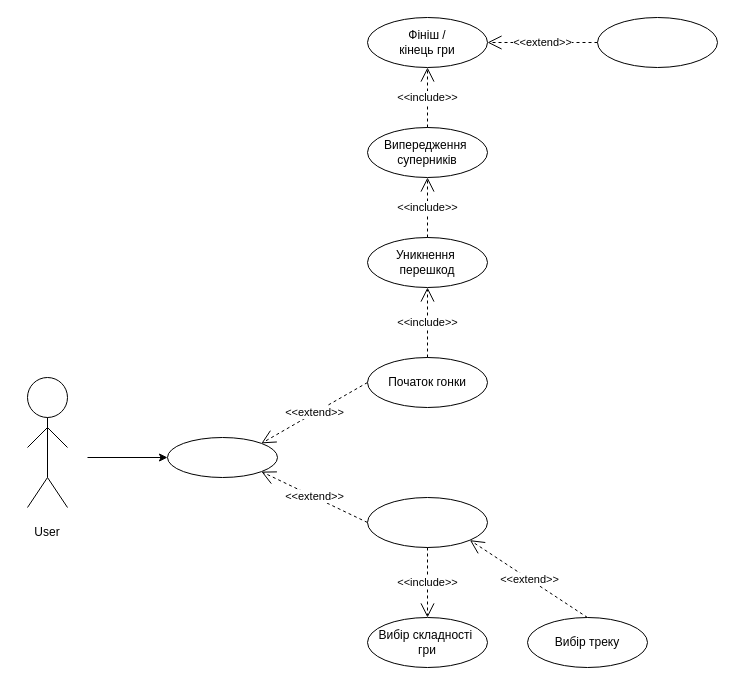
Image size: 735x685. Some labels were removed from this diagram. Here are the shapes that lost their labels. From the top down, the centre of each, then its label:
At pixel 657 42: "Запис результату".
At pixel 222 457: "Запуск гри".
At pixel 427 522: "Вибір параметрів".
